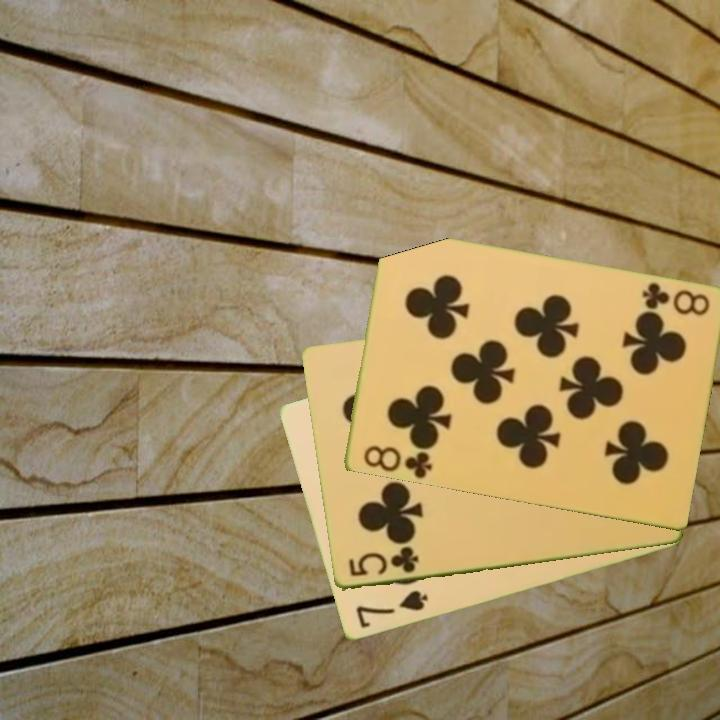5c: (344, 543, 421, 580)
7s: (352, 587, 431, 632)
8c: (359, 442, 435, 481), (638, 279, 712, 319)
